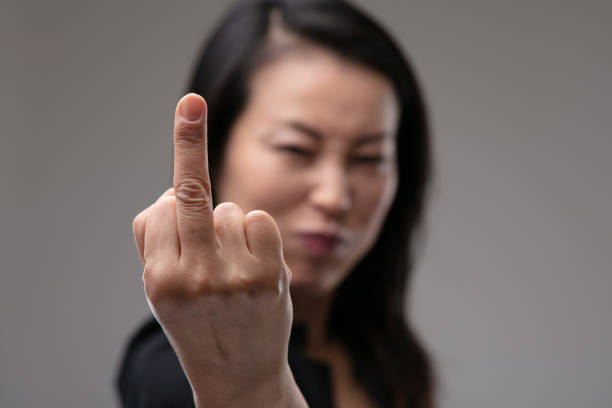insulting_gesture: (132, 90, 295, 387)
